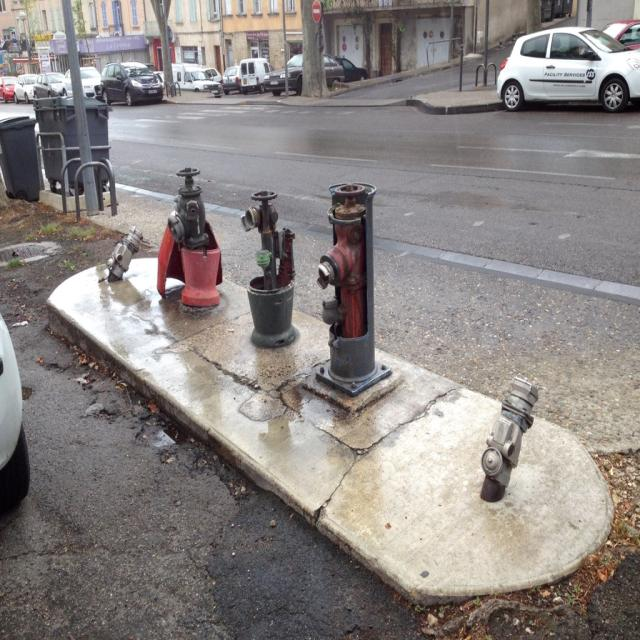fire_hydrant: (314, 180, 392, 394), (158, 169, 225, 308), (241, 190, 297, 352)
